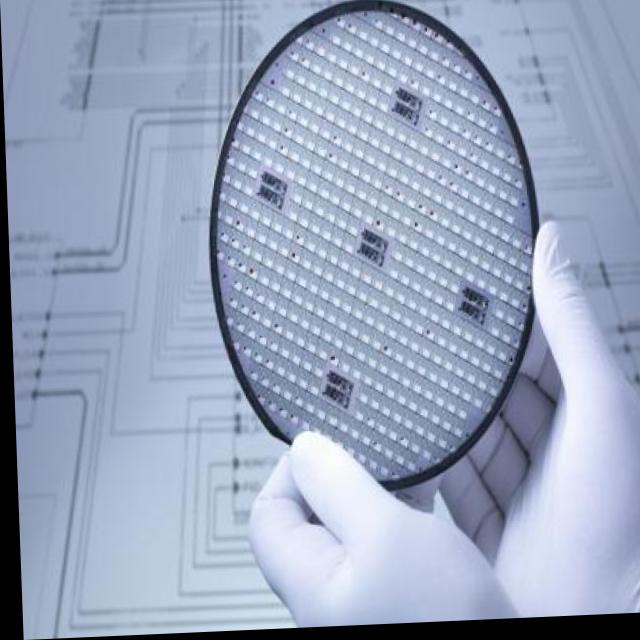Wafer: (207, 3, 537, 499)
